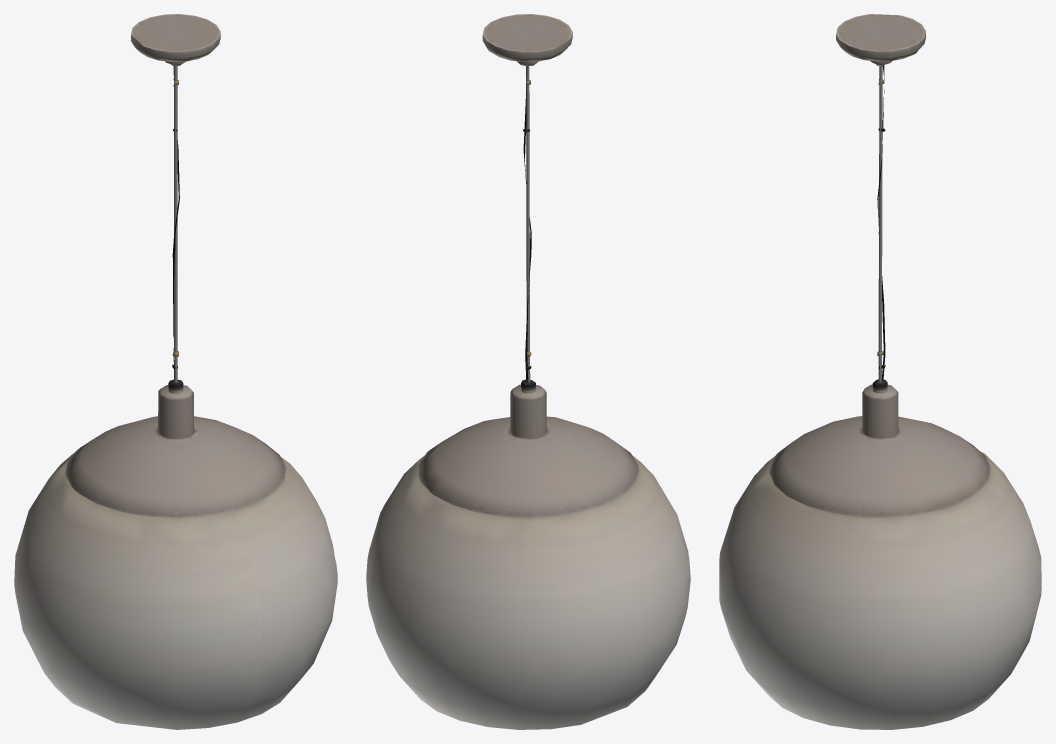
The model's file is modern_ceiling_lamp_01.glb.
3 renders of one model, left to right at view 1: azimuth 30°, elevation 25°; view 2: azimuth 150°, elevation 25°; view 3: azimuth 270°, elevation 25°, orthographic.
Visible parts, largest first — view 1: modern_ceiling_lamp_01, modern_ceiling_lamp_01_lo; view 2: modern_ceiling_lamp_01, modern_ceiling_lamp_01_lo; view 3: modern_ceiling_lamp_01, modern_ceiling_lamp_01_lo.
Part boxes in pixels (x1,y1,x2,y2): modern_ceiling_lamp_01: (14,14,337,729); modern_ceiling_lamp_01_lo: (131,14,217,516); modern_ceiling_lamp_01: (366,14,690,729); modern_ceiling_lamp_01_lo: (429,16,616,663); modern_ceiling_lamp_01: (719,14,1041,729); modern_ceiling_lamp_01_lo: (774,16,917,651).
Bounding box in the file's own units: 0.4317 × 0.9512 × 0.4288.
2 materials, 2 textured.
